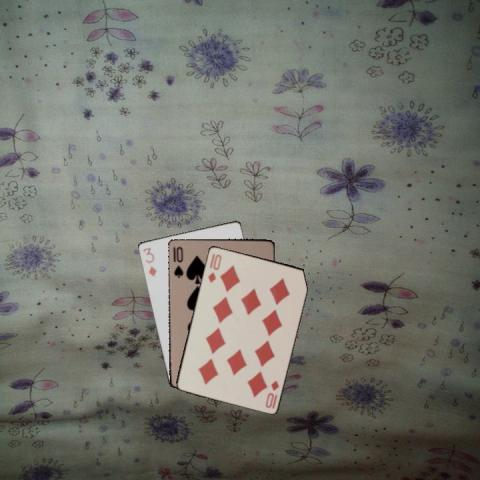10d: (262, 377, 280, 410), (204, 252, 222, 284)
10s: (170, 243, 184, 279)
3d: (140, 245, 157, 278)
